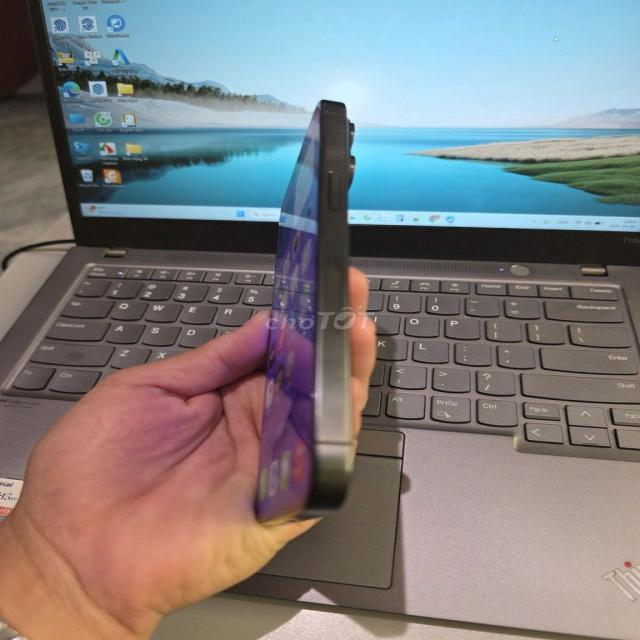gen_15: (240, 94, 391, 528)
